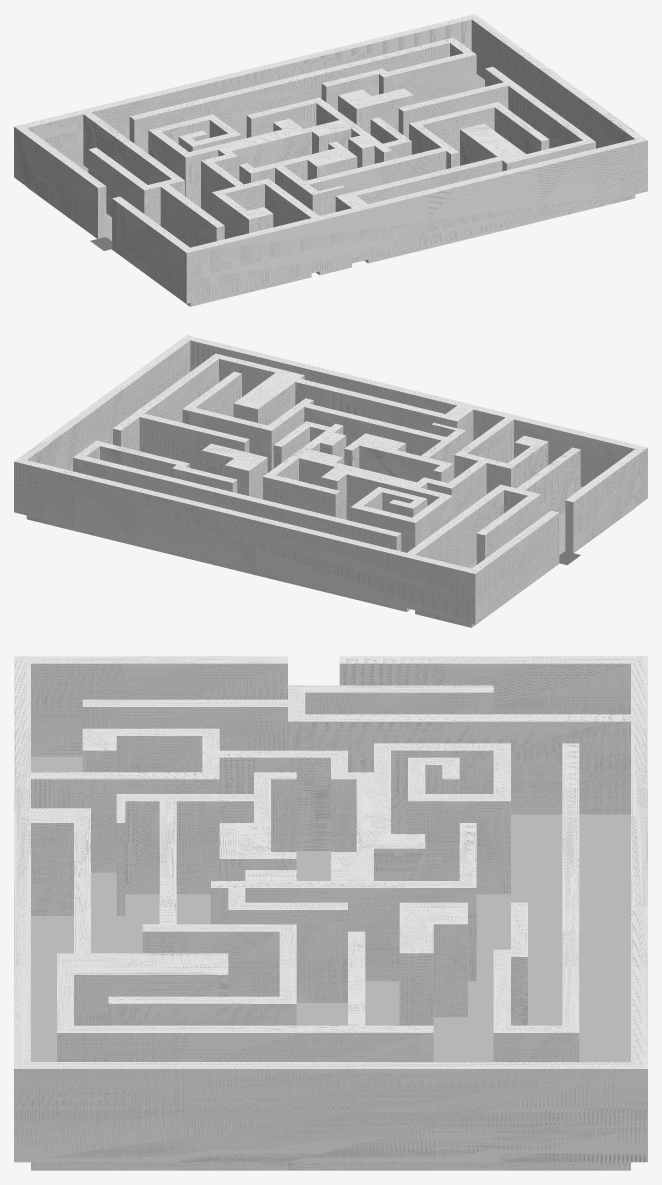
File: laberinto1.dae
3 renders of one model, top to bottom at view 1: azimuth 30°, elevation 25°; view 2: azimuth 150°, elevation 25°; view 3: azimuth 270°, elevation 25°, orthographic. The views are drawn at different scales.
Visible parts, largest first — view 1: SketchUp (×4); view 2: SketchUp (×4); view 3: SketchUp (×5).
Part boxes in pixels (x1,y1,x2,y2): SketchUp (×4): (14,14,647,306); SketchUp (×4): (14,335,647,627); SketchUp (×5): (14,656,647,1170).
Size of the model in its own units: 2283 by 1457 by 276.
